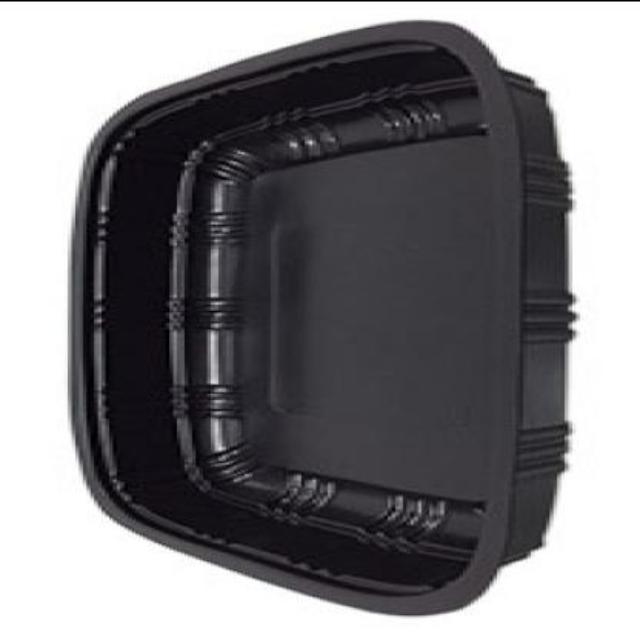plastic_box: (69, 19, 576, 614)
